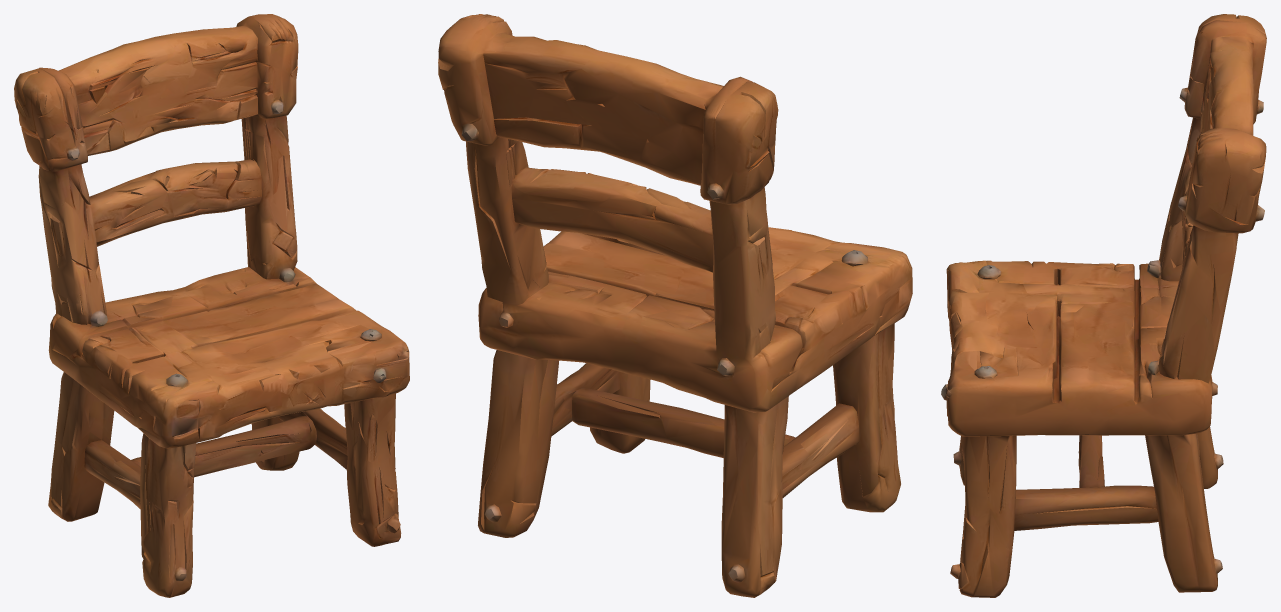
Rendered from chair_idle.glb.
3 renders of one model, left to right at view 1: azimuth 30°, elevation 25°; view 2: azimuth 150°, elevation 25°; view 3: azimuth 270°, elevation 25°, orthographic. The views are drawn at different scales.
Visible parts, largest first — view 1: tripo_node_ead2460b-af37-44a7-889a-39aefa694491; view 2: tripo_node_ead2460b-af37-44a7-889a-39aefa694491; view 3: tripo_node_ead2460b-af37-44a7-889a-39aefa694491.
Part boxes in pixels (x1,y1,x2,y2): tripo_node_ead2460b-af37-44a7-889a-39aefa694491: (14,14,409,597); tripo_node_ead2460b-af37-44a7-889a-39aefa694491: (438,14,912,597); tripo_node_ead2460b-af37-44a7-889a-39aefa694491: (941,14,1266,597).
Bounding box in the file's own units: 0.5701 × 0.8997 × 0.574.
1 material, 1 textured.
